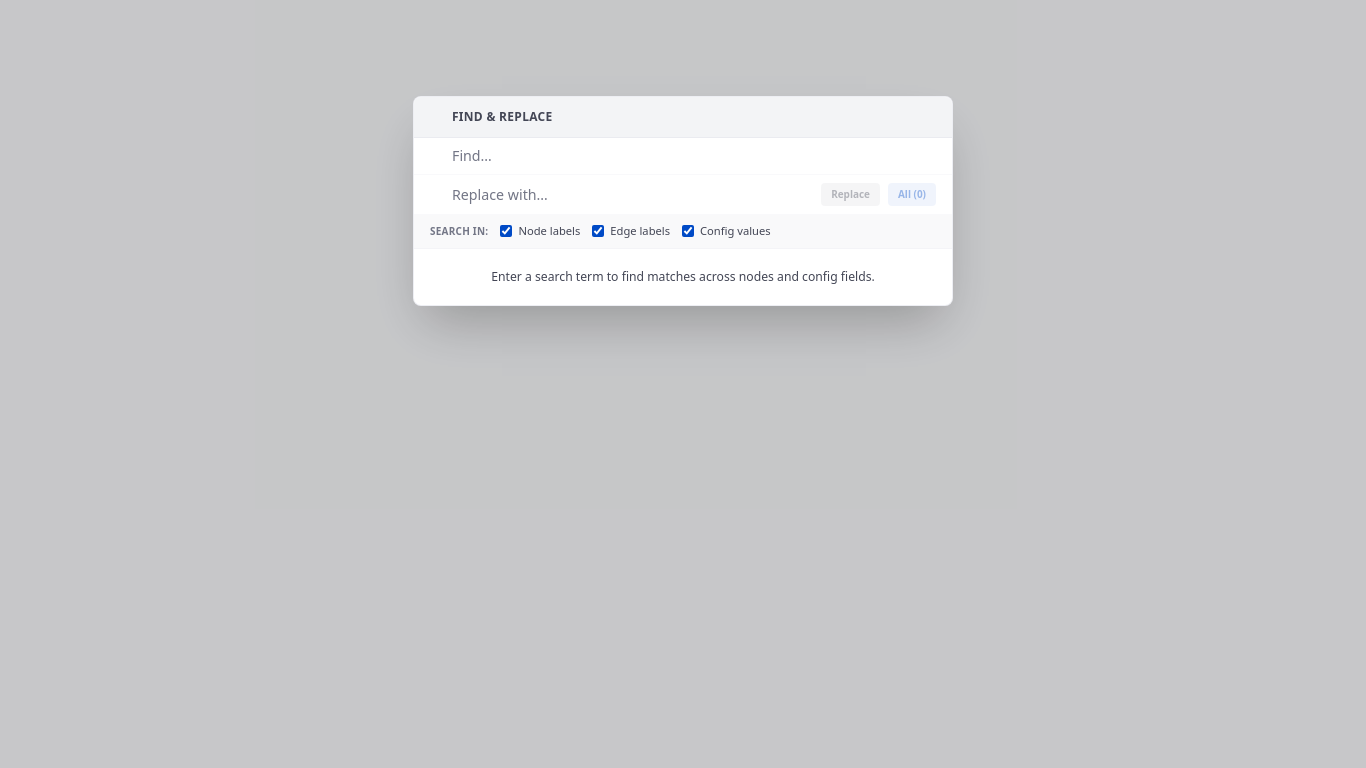
Test: FindReplaceOverlay › queryWithoutMatches_showsNoMatchesMessage
The width and height of the screenshot is (1366, 768).
Type "zzz" into the field with placeholder "Find…".
click(694, 156); type("zzz")  # box [452,146,936,166]
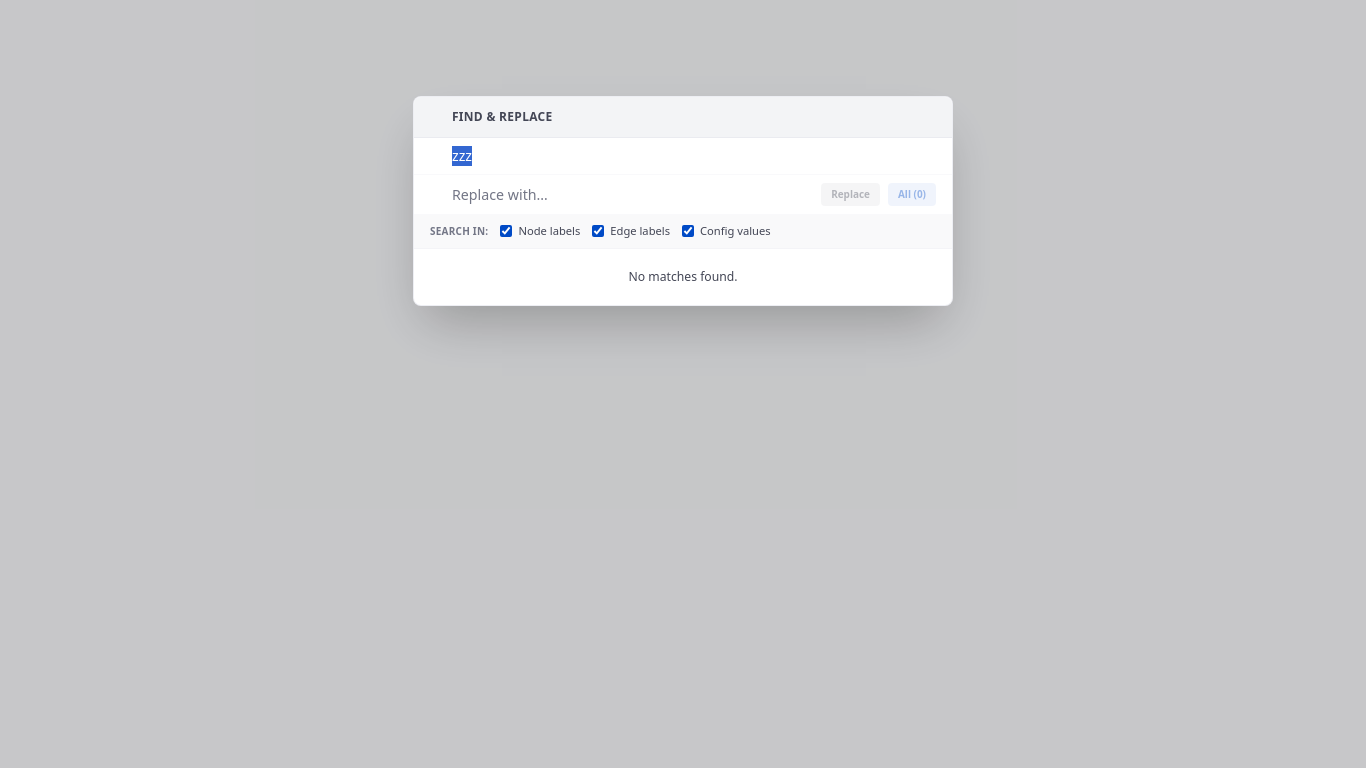
Expected: the text "No matches found." is shown, [628,268,738,284]
